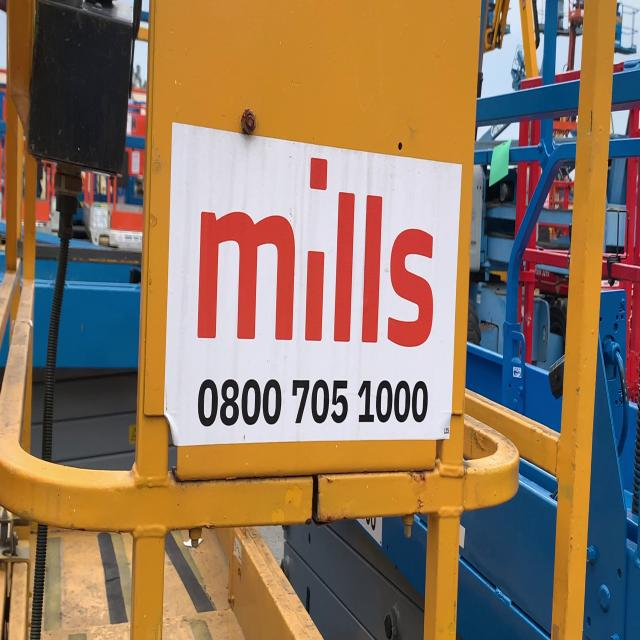Adesivos: (159, 113, 468, 455)
